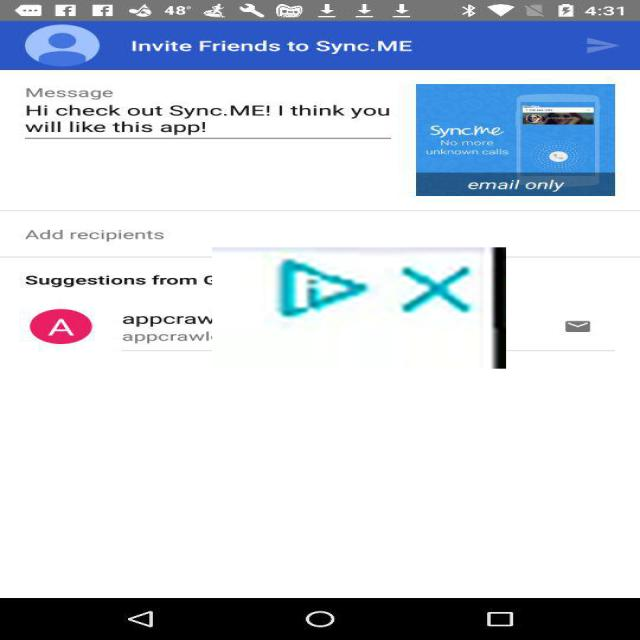sneaking: (212, 247, 506, 369)
